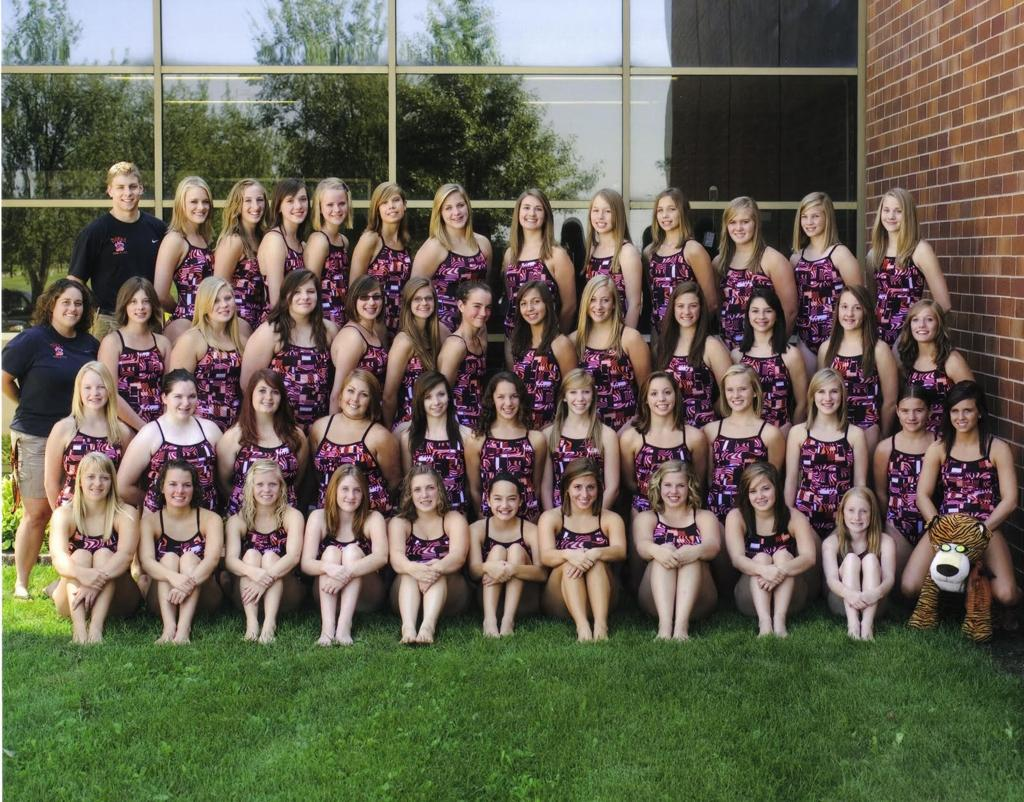face: (166, 379, 198, 418), (489, 480, 519, 521), (410, 472, 440, 512), (54, 285, 83, 326), (341, 377, 370, 418), (81, 461, 110, 501), (163, 467, 192, 507), (646, 376, 675, 416), (285, 279, 317, 315), (463, 287, 491, 328), (250, 376, 281, 413), (567, 472, 597, 510), (723, 372, 752, 411), (747, 473, 776, 512), (335, 473, 363, 513), (843, 493, 871, 533), (204, 285, 235, 321), (80, 369, 107, 410), (492, 378, 519, 419), (319, 187, 348, 225), (812, 377, 841, 415), (111, 173, 140, 210), (439, 191, 468, 228), (726, 207, 755, 244), (748, 295, 777, 332), (660, 470, 689, 507), (909, 307, 939, 342), (898, 397, 928, 432), (949, 397, 979, 432), (280, 187, 309, 223), (252, 469, 280, 506), (519, 288, 547, 325), (837, 290, 863, 329), (183, 186, 210, 223), (355, 284, 383, 319), (587, 284, 612, 323), (674, 292, 701, 328), (565, 379, 592, 415), (125, 287, 151, 324), (880, 194, 905, 232), (589, 195, 613, 234), (240, 186, 265, 223), (421, 382, 448, 416), (518, 194, 544, 229), (800, 201, 825, 237), (409, 285, 434, 319), (656, 195, 679, 231), (377, 193, 404, 223)
